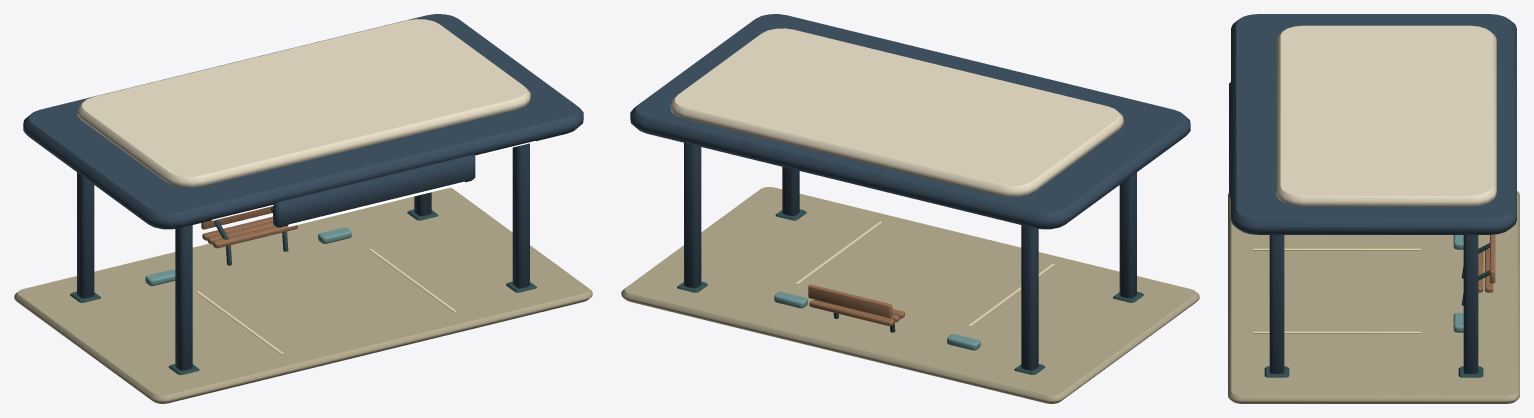
The model's file is luxury_vip_park.glb.
3 views of the same model, side by side, from view 1: azimuth 30°, elevation 25°; view 2: azimuth 150°, elevation 25°; view 3: azimuth 270°, elevation 25° (orthographic).
Parts seen in each view (by area): view 1: LuxuryVipPark; view 2: LuxuryVipPark; view 3: LuxuryVipPark.
Boxes of the visible parts, left/top/right/bottom form: LuxuryVipPark: left=14, top=14, right=592, bottom=403; LuxuryVipPark: left=621, top=14, right=1199, bottom=403; LuxuryVipPark: left=1228, top=14, right=1519, bottom=403.
Bounding box in the file's own units: 8.78 × 3.72 × 5.12.
